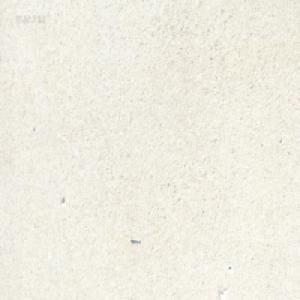Nail: (130, 236, 141, 244)
